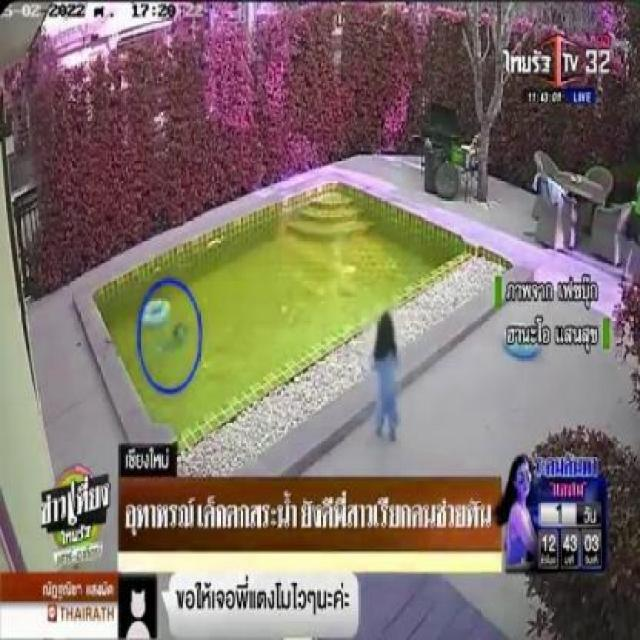drowning: (150, 327, 188, 365)
